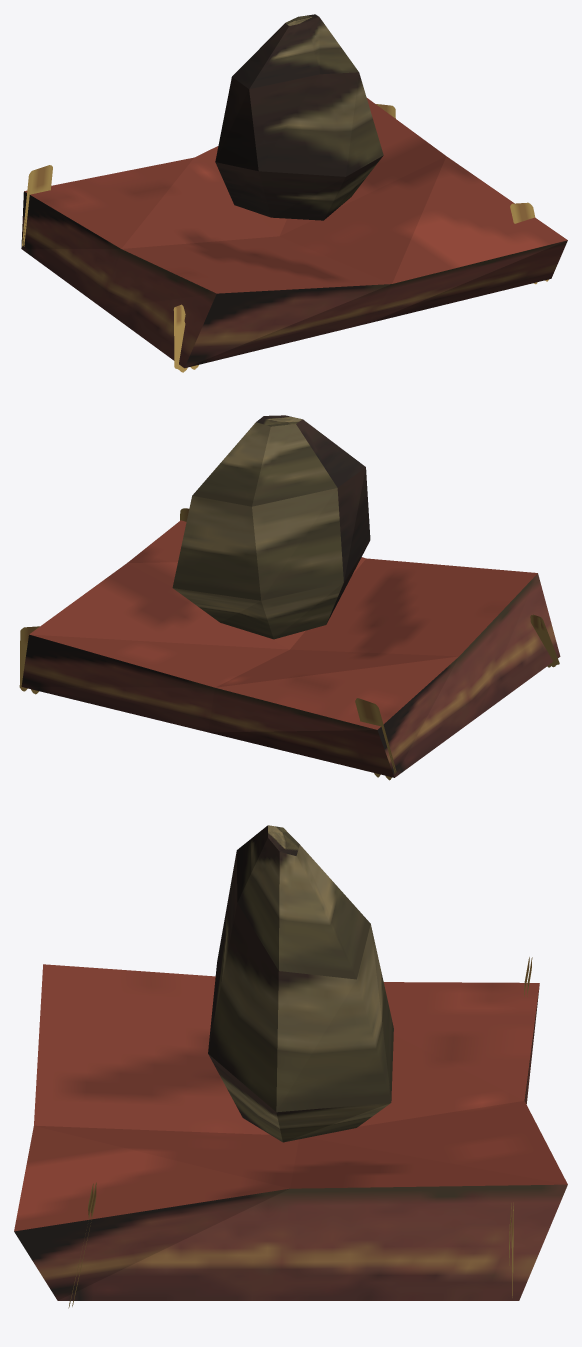
File: SM_GemPillow.fbx
The picture shows the model from 3 angles, top to bottom: view 1: azimuth 30°, elevation 25°; view 2: azimuth 150°, elevation 25°; view 3: azimuth 270°, elevation 25°; orthographic projection. The views are drawn at different scales.
Visible parts, largest first — view 1: GemPillow_Visual, GemPillow_Tassels; view 2: GemPillow_Visual, GemPillow_Tassels; view 3: GemPillow_Visual, GemPillow_Tassels.
Boxes of the visible parts, bbox=[...] form: GemPillow_Visual: bbox=[21, 14, 567, 368]; GemPillow_Tassels: bbox=[22, 104, 548, 372]; GemPillow_Visual: bbox=[21, 415, 560, 777]; GemPillow_Tassels: bbox=[19, 508, 559, 780]; GemPillow_Visual: bbox=[14, 825, 567, 1300]; GemPillow_Tassels: bbox=[68, 957, 532, 1308].
Bounding box in the file's own units: 0.274 × 0.1773 × 0.24.
